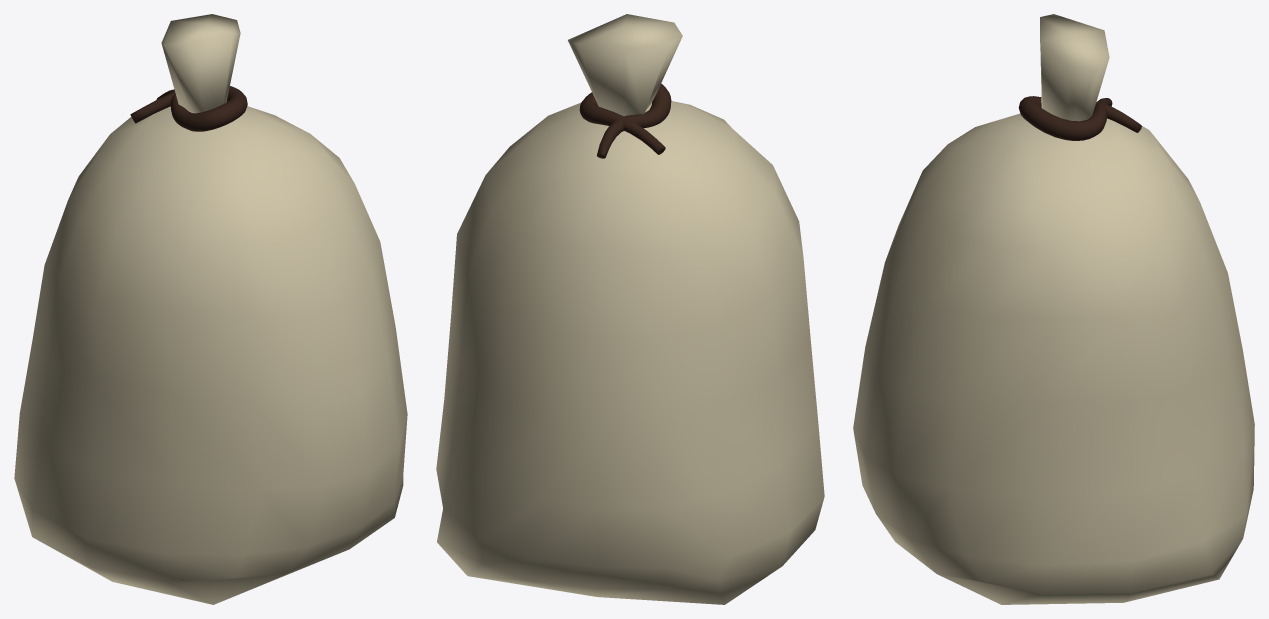
File: Bag2.fbx
3 renders of one model, left to right at view 1: azimuth 30°, elevation 25°; view 2: azimuth 150°, elevation 25°; view 3: azimuth 270°, elevation 25°, orthographic. The views are drawn at different scales.
Parts seen in each view (by area): view 1: bag S; view 2: bag S; view 3: bag S.
Boxes of the visible parts, <box> form: bag S: <box>14,14,407,604</box>; bag S: <box>436,14,824,604</box>; bag S: <box>853,14,1254,604</box>.
Size of the model in its own units: 73.79 by 110 by 77.01.
